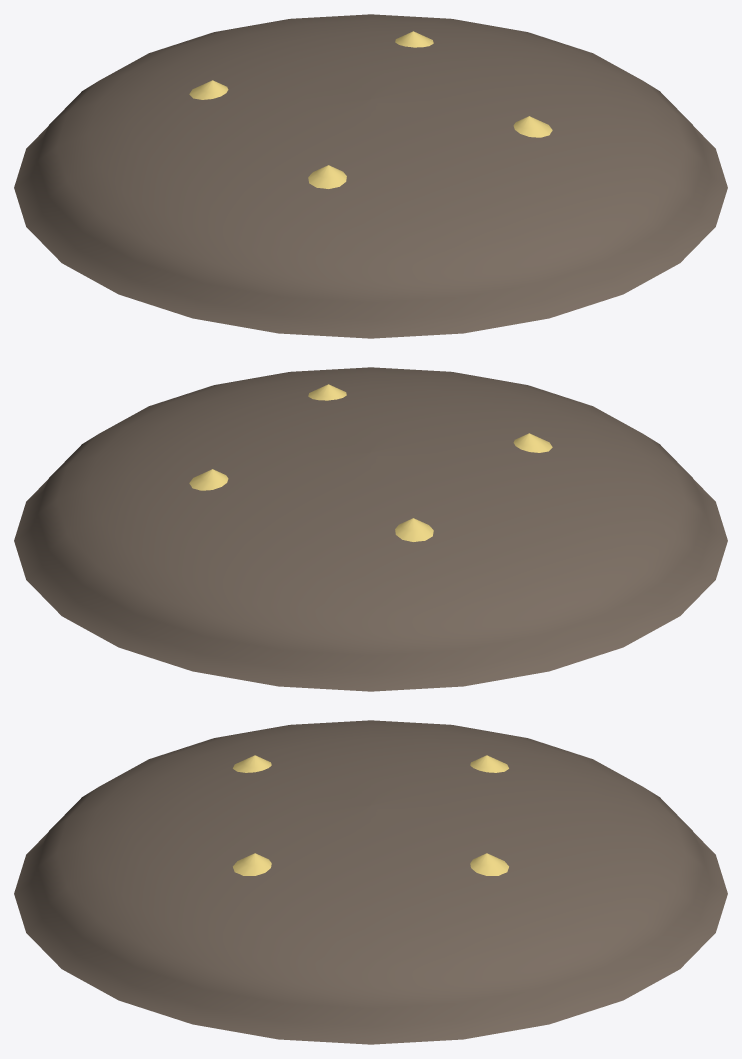
File: Gorkha_Dhal_Shield.fbx
The picture shows the model from 3 angles, top to bottom: view 1: azimuth 30°, elevation 25°; view 2: azimuth 150°, elevation 25°; view 3: azimuth 270°, elevation 25°; orthographic projection.
Parts seen in each view (by area): view 1: Gorkha_Dhal_Shield; view 2: Gorkha_Dhal_Shield; view 3: Gorkha_Dhal_Shield.
Part boxes in pixels (x1,y1,x2,y2): Gorkha_Dhal_Shield: [14, 14, 727, 338]; Gorkha_Dhal_Shield: [14, 367, 727, 691]; Gorkha_Dhal_Shield: [14, 720, 727, 1044].
Bounding box in the file's own units: 0.462 × 0.064 × 0.462.
